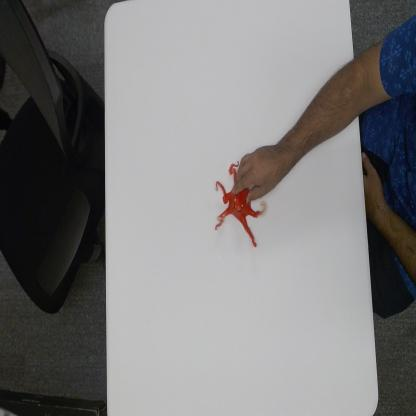Arm: (288, 55, 359, 169)
Hand: (230, 139, 289, 206)
Octopus: (212, 158, 268, 250)
